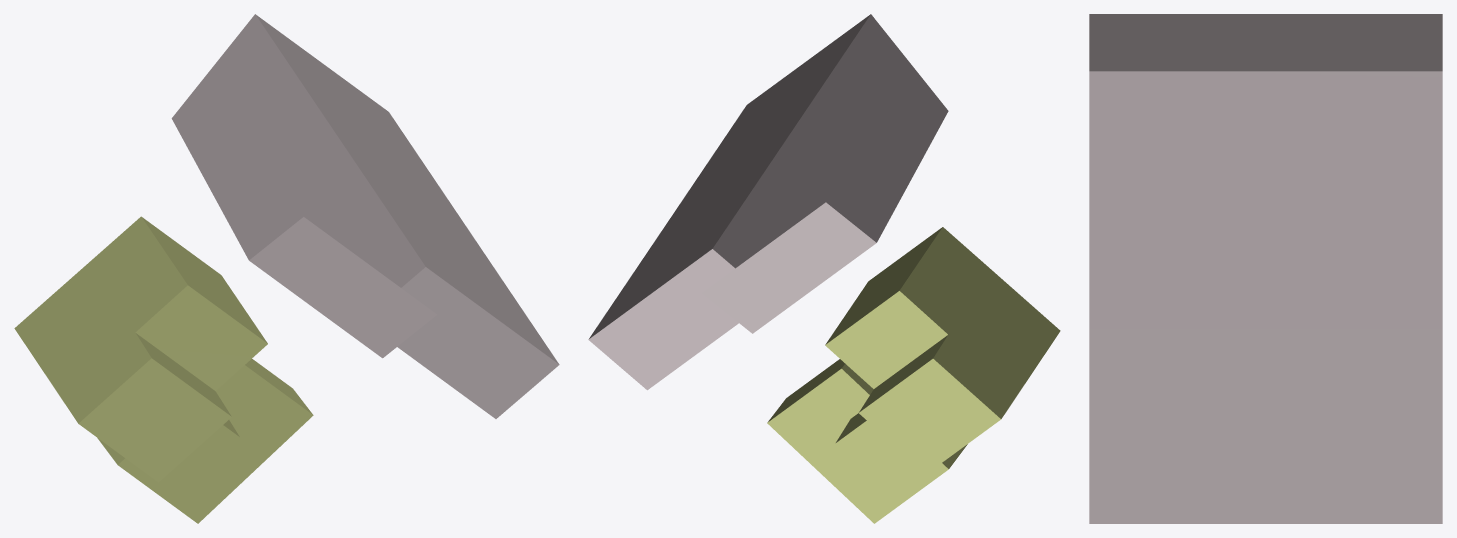
3 renders of one model, left to right at view 1: azimuth 30°, elevation 25°; view 2: azimuth 150°, elevation 25°; view 3: azimuth 270°, elevation 25°, orthographic. The views are drawn at different scales.
Visible parts, largest first — view 1: 0_1_3_2_2_1_2_1_2_3; view 2: 0_1_3_2_2_1_2_1_2_3; view 3: 0_1_3_2_2_1_2_1_2_3.
Part boxes in pixels (x1,y1,x2,y2): 0_1_3_2_2_1_2_1_2_3: (14,14,559,523); 0_1_3_2_2_1_2_1_2_3: (588,14,1060,523); 0_1_3_2_2_1_2_1_2_3: (1089,14,1442,523).
Size of the model in its own units: 27.18 by 25.84 by 15.
